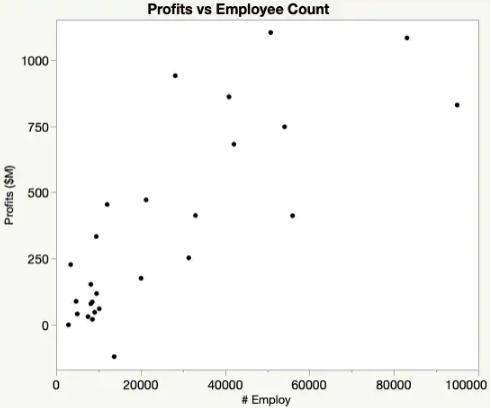axis: (57, 365, 484, 376), (52, 18, 62, 368)
point: (223, 89, 237, 103), (140, 193, 153, 206), (401, 32, 413, 44), (288, 209, 300, 221), (190, 209, 202, 221), (65, 258, 77, 270), (183, 249, 194, 262), (452, 98, 463, 110), (228, 139, 240, 150), (281, 120, 291, 133), (170, 69, 181, 80), (137, 273, 149, 283), (266, 27, 276, 38), (102, 198, 112, 209), (92, 231, 102, 241), (71, 297, 80, 305), (64, 321, 73, 329), (93, 289, 101, 297), (111, 352, 119, 360), (88, 280, 95, 288), (74, 310, 81, 318), (96, 305, 103, 312), (91, 309, 98, 315), (84, 313, 91, 319), (89, 317, 96, 323), (87, 301, 93, 307), (90, 299, 95, 304)
